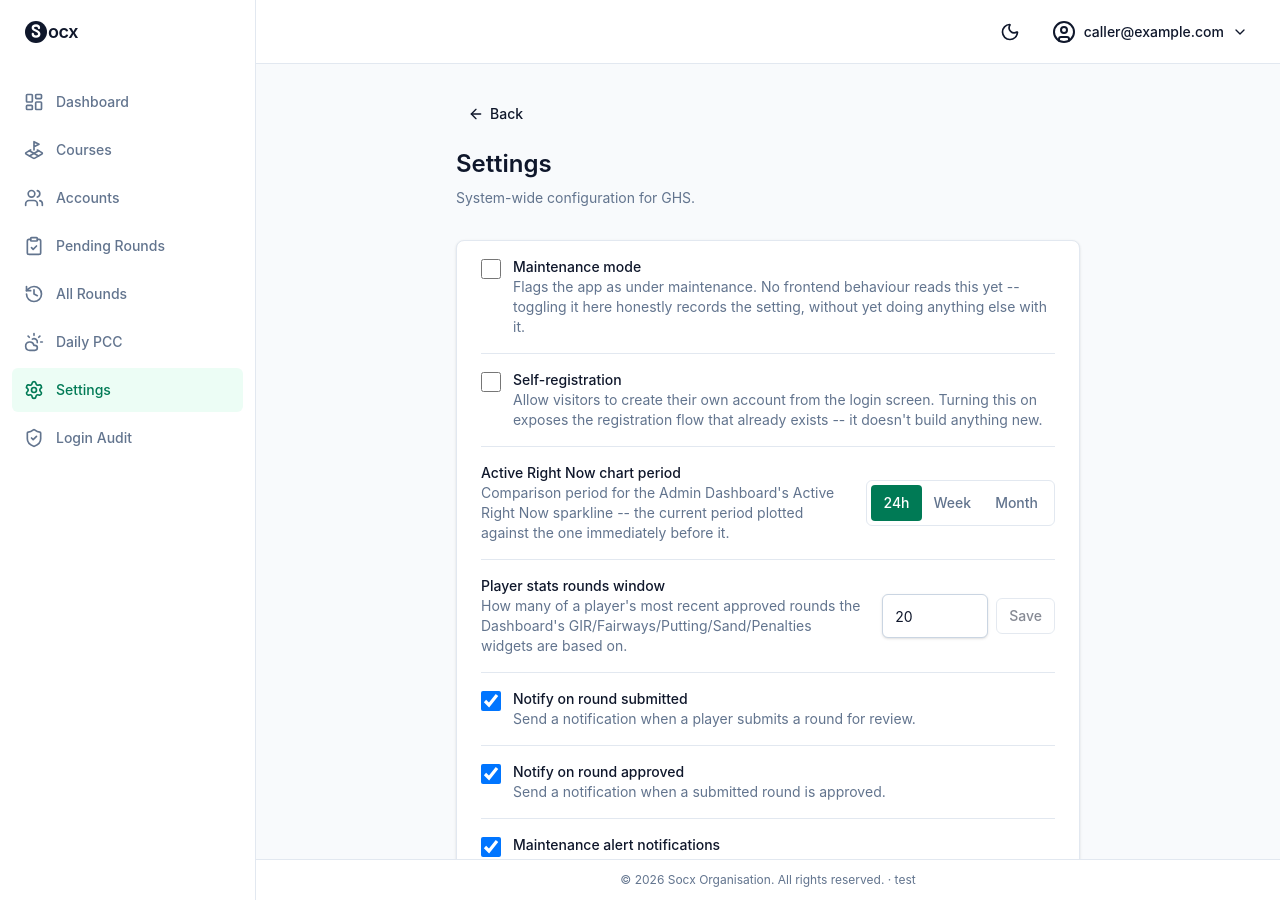
Test: AdminSettingsPage › toggling each notification setting hits its own endpoint independently
Click the checkbox labelled "Notify on round approved".
click(491, 774)  # box left=481, top=764, right=501, bottom=784
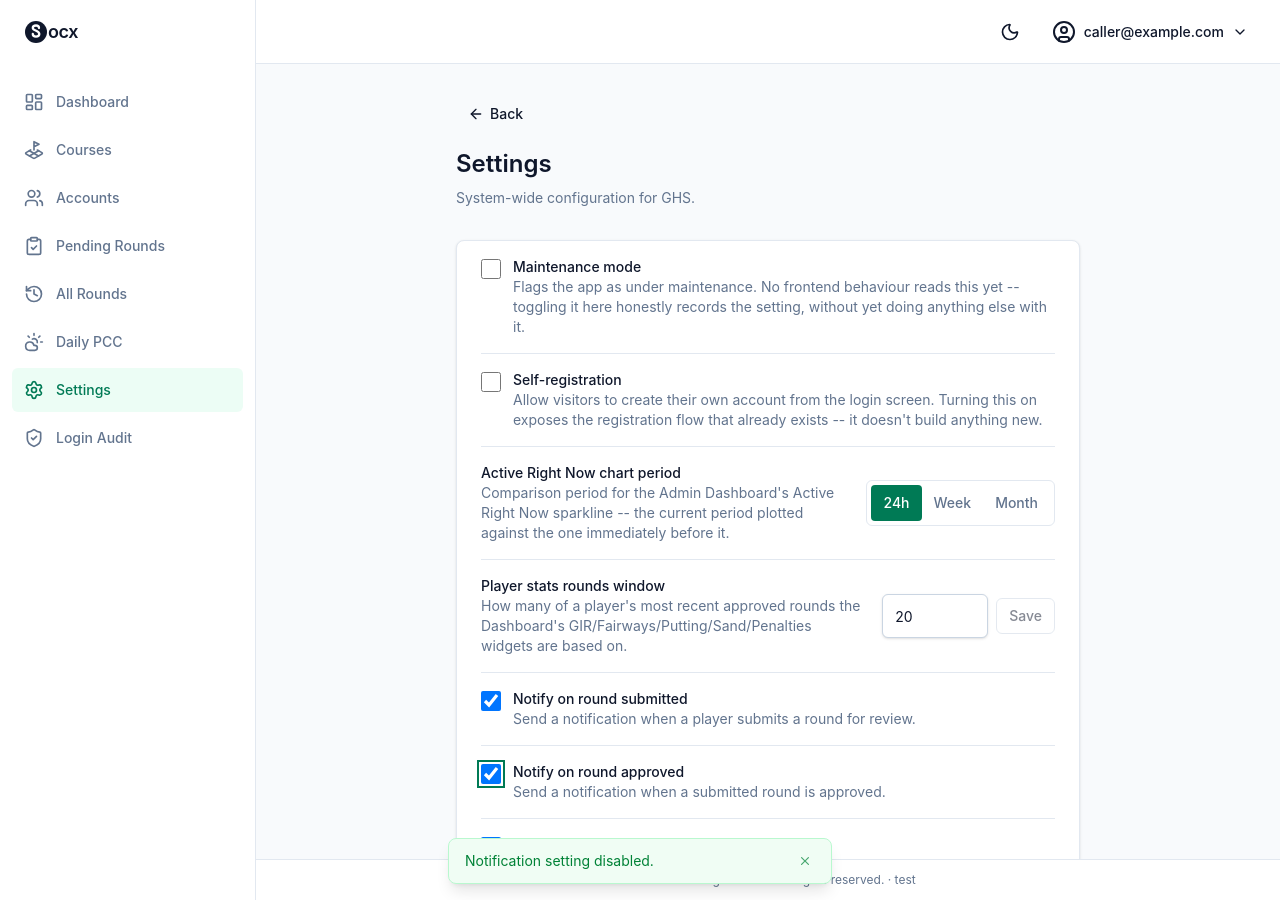
Check: the message reads "Notification setting disabled.", box left=465, top=852, right=654, bottom=869
